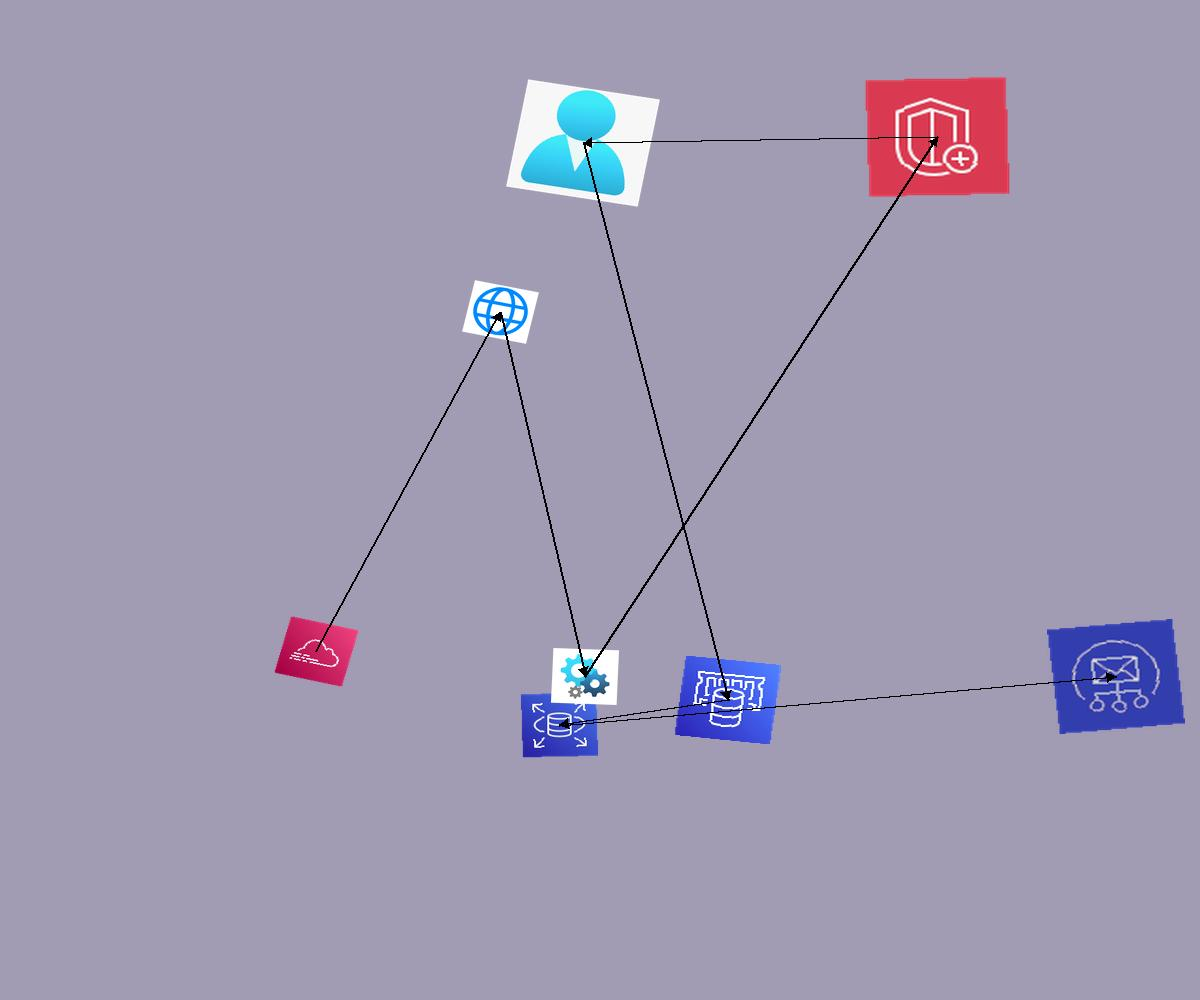AWS-CloudTrail: (274, 616, 359, 687)
AWS-ElastiCache: (674, 655, 782, 745)
AWS-RDS: (520, 692, 599, 758)
AWS-Shield: (864, 76, 1011, 198)
AWS-Simple-Email-Service: (1047, 619, 1185, 734)
Azure_api: (551, 648, 619, 705)
Azure_http: (462, 280, 539, 344)
Azure_users: (506, 79, 660, 207)
